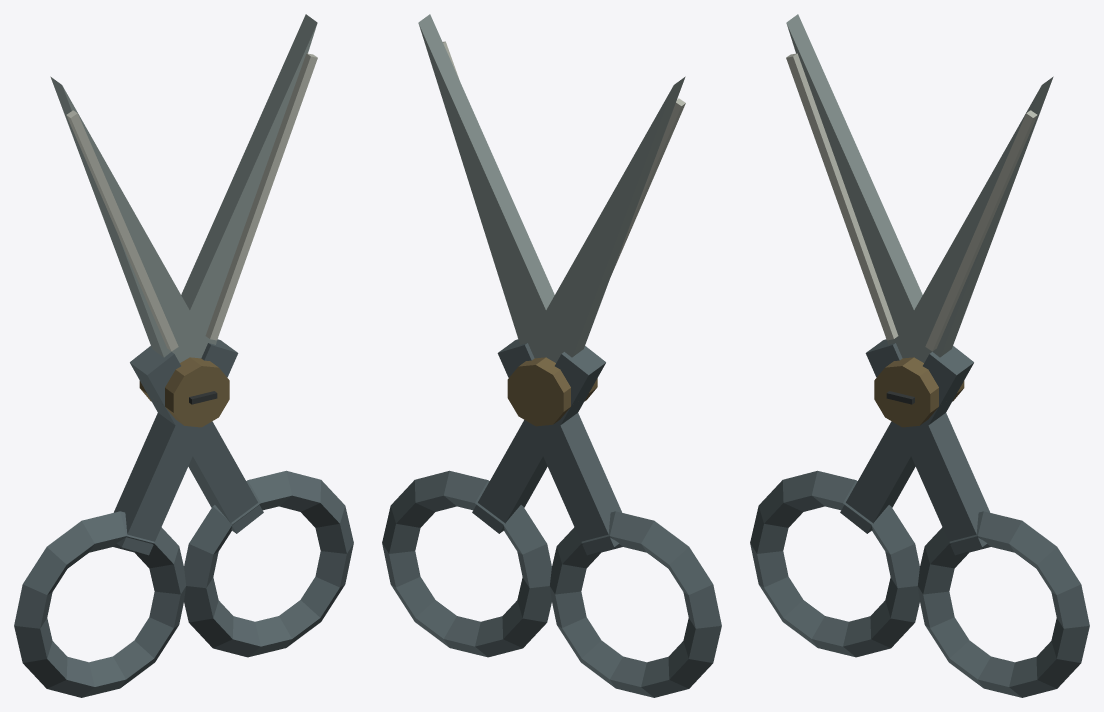
The model's file is shears.glb.
3 renders of one model, left to right at view 1: azimuth 30°, elevation 25°; view 2: azimuth 150°, elevation 25°; view 3: azimuth 330°, elevation 25°, orthographic.
Visible parts, largest first — view 1: geometry; view 2: geometry; view 3: geometry.
Part boxes in pixels (bbox=[...]): geometry: bbox=[14, 14, 353, 697]; geometry: bbox=[382, 14, 721, 697]; geometry: bbox=[750, 14, 1089, 697].
Size of the model in its own units: 0.266 by 0.4663 by 0.05.
